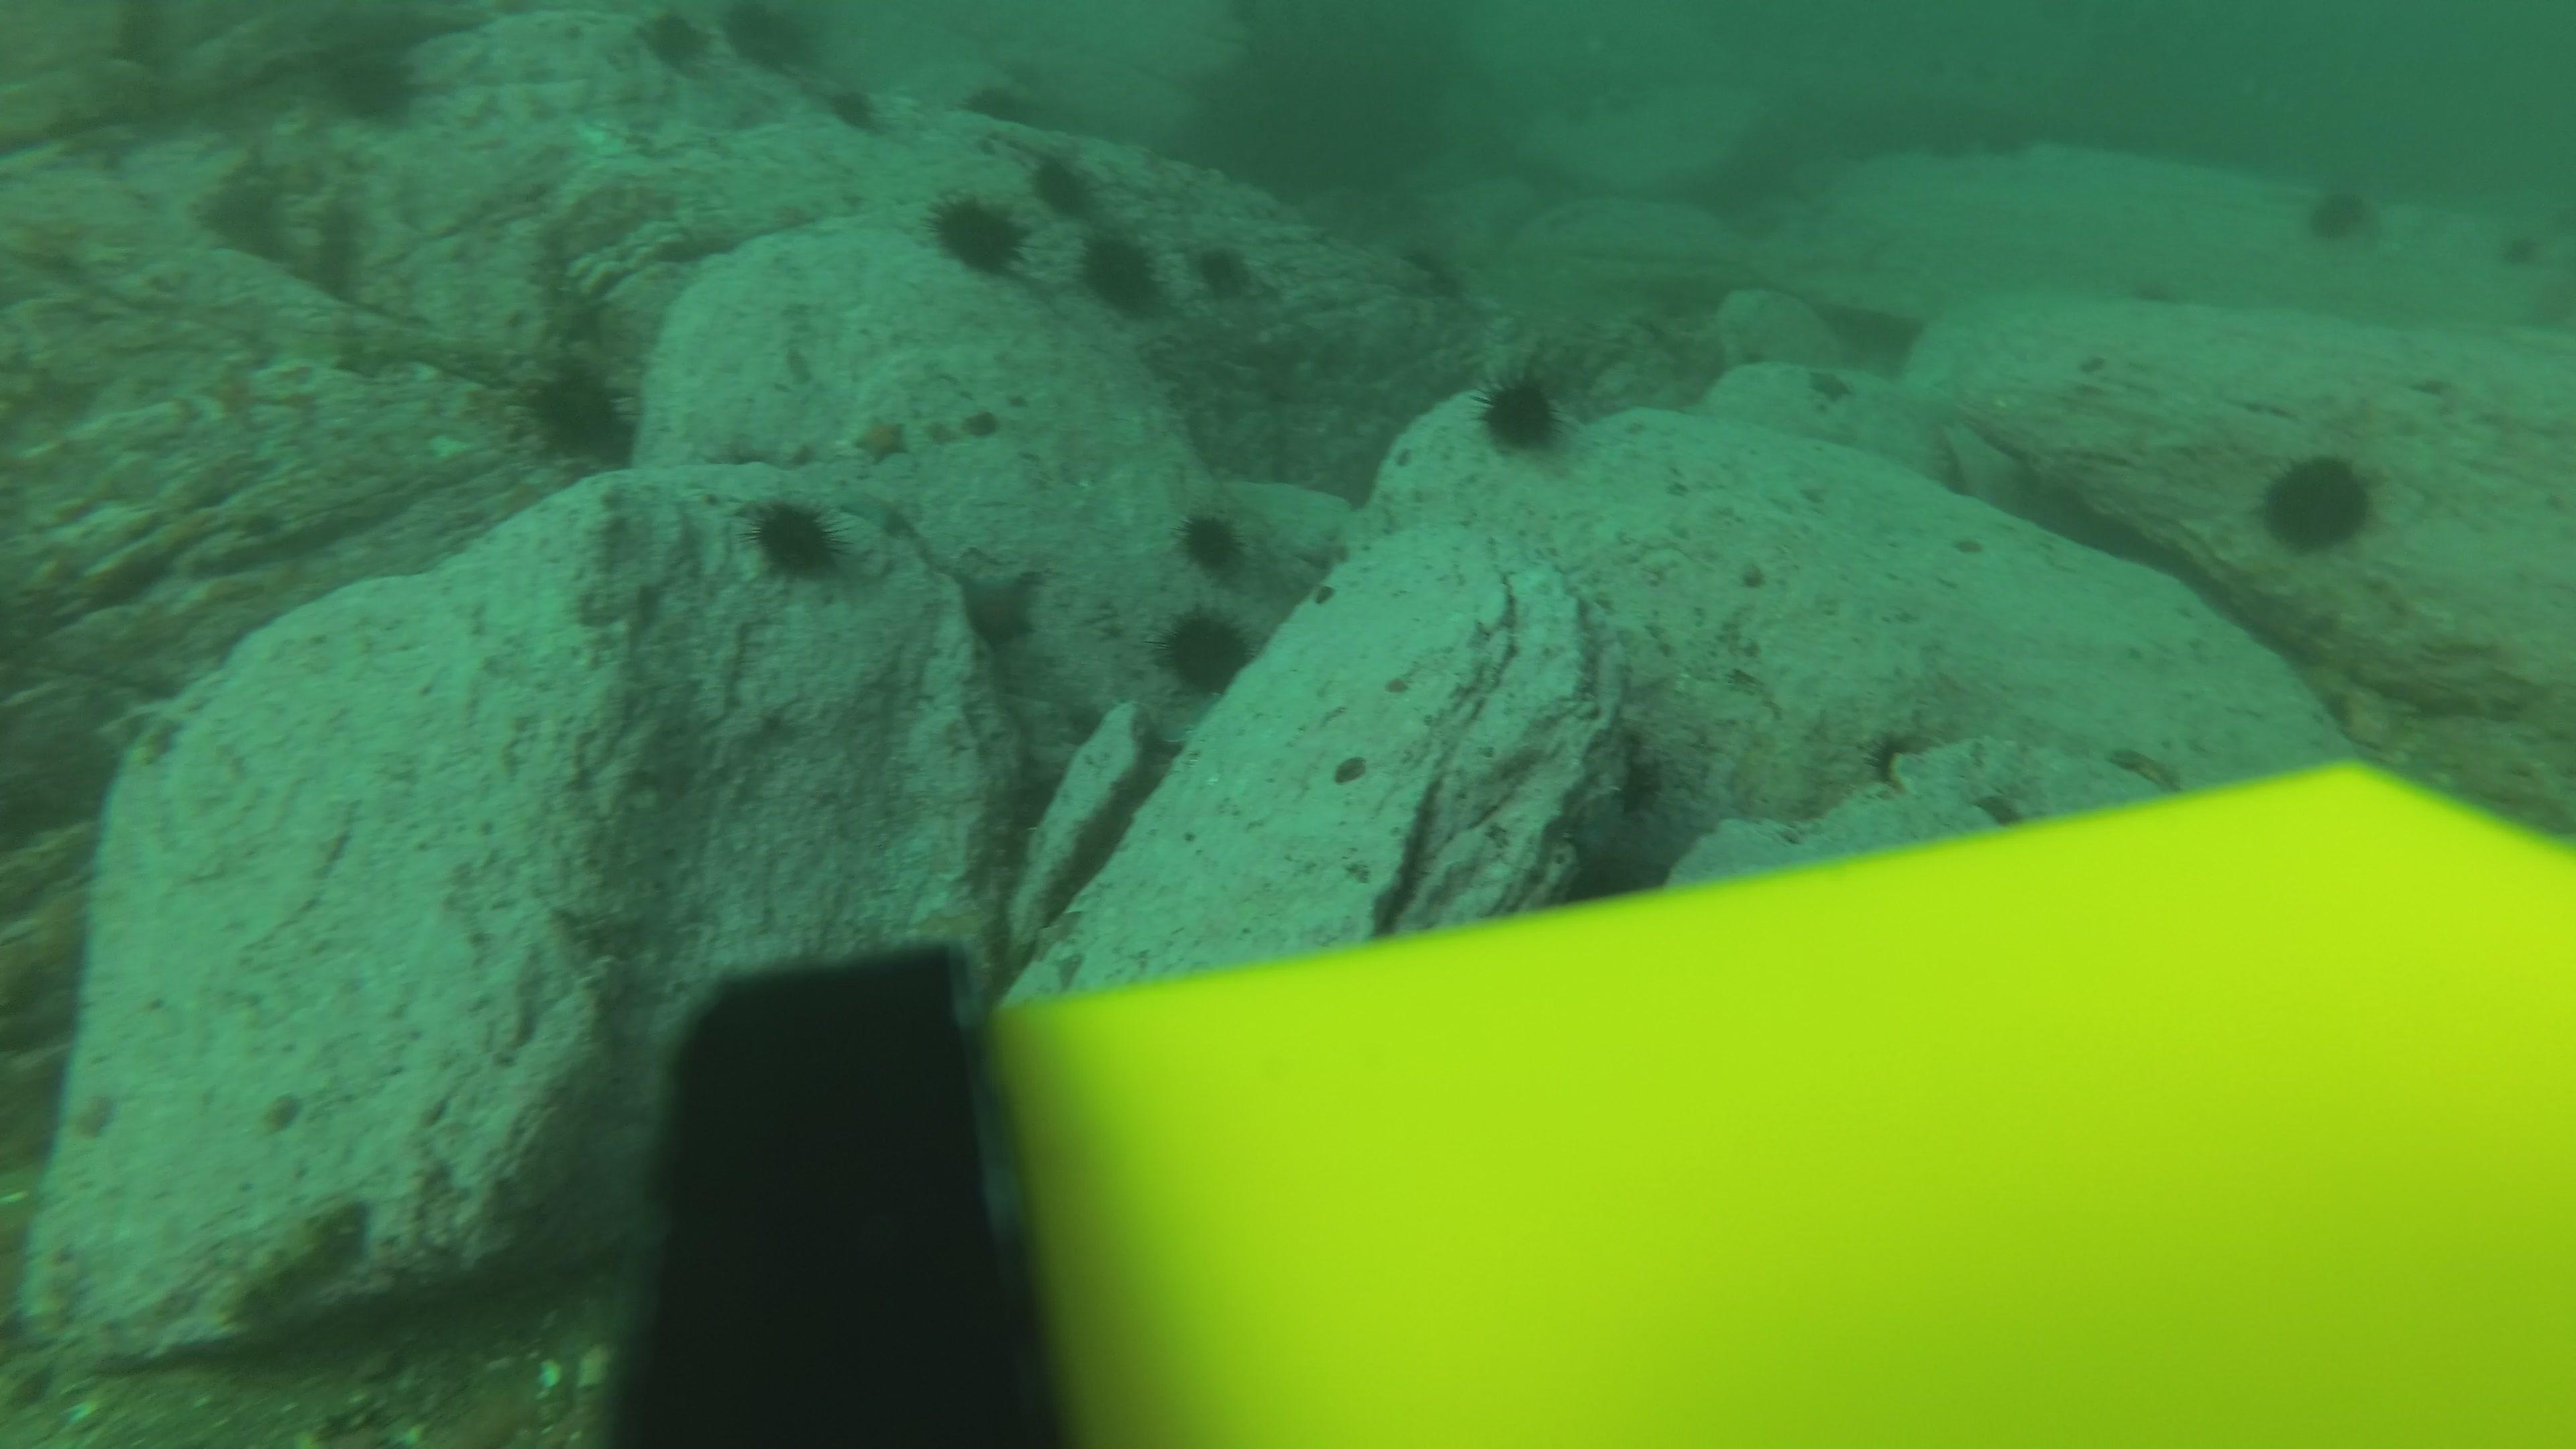echinus: (515, 356, 640, 469), (2254, 448, 2381, 557), (741, 492, 855, 589), (1154, 603, 1260, 701), (1472, 363, 1576, 460), (317, 39, 428, 129), (924, 188, 1031, 280), (717, 2, 828, 78), (1076, 228, 1166, 317), (1173, 502, 1253, 579), (633, 7, 715, 74), (1026, 147, 1100, 218), (1189, 235, 1260, 303), (1396, 235, 1465, 297), (821, 80, 885, 134), (2305, 191, 2374, 239), (1974, 119, 2043, 165), (1927, 127, 1996, 173), (1960, 55, 2006, 94), (1907, 51, 1955, 88), (2134, 274, 2185, 308), (2500, 234, 2551, 267)
starfish: (1550, 787, 1693, 899), (950, 552, 1047, 655), (830, 481, 918, 538), (851, 410, 913, 467), (1803, 363, 1858, 409)
